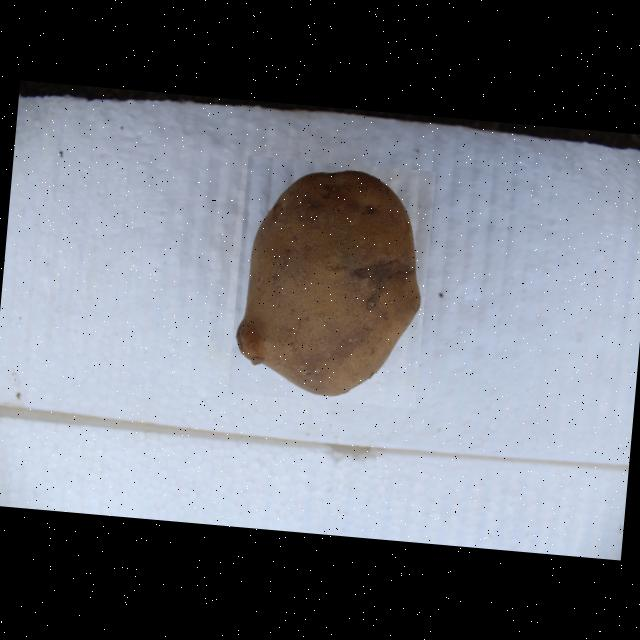Diseased-fungal potato: (228, 156, 436, 408)
